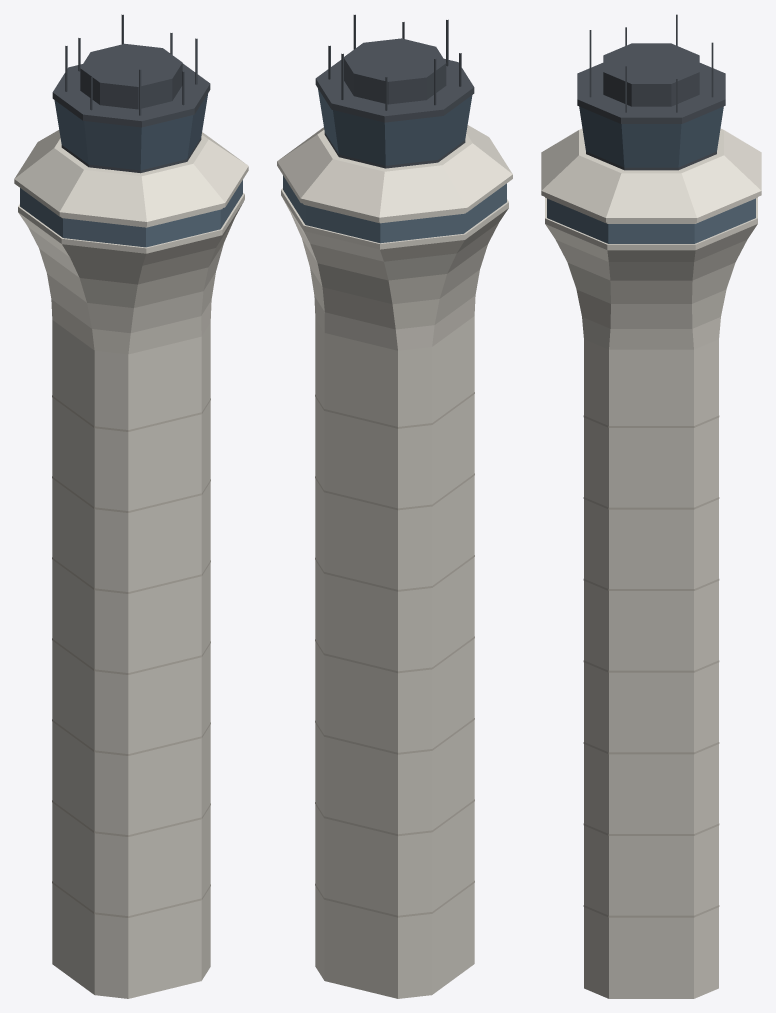
File: nyc-ewr-control-tower.glb
3 renders of one model, left to right at view 1: azimuth 30°, elevation 25°; view 2: azimuth 150°, elevation 25°; view 3: azimuth 270°, elevation 25°, orthographic.
Visible parts, largest first — view 1: Newark Airport Control Tower; view 2: Newark Airport Control Tower; view 3: Newark Airport Control Tower.
Boxes of the visible parts, x1,y1,x2,y2 form: Newark Airport Control Tower: (14, 14, 248, 998); Newark Airport Control Tower: (277, 14, 512, 998); Newark Airport Control Tower: (541, 14, 761, 998).
Bounding box in the file's own units: 22 × 103 × 22.
